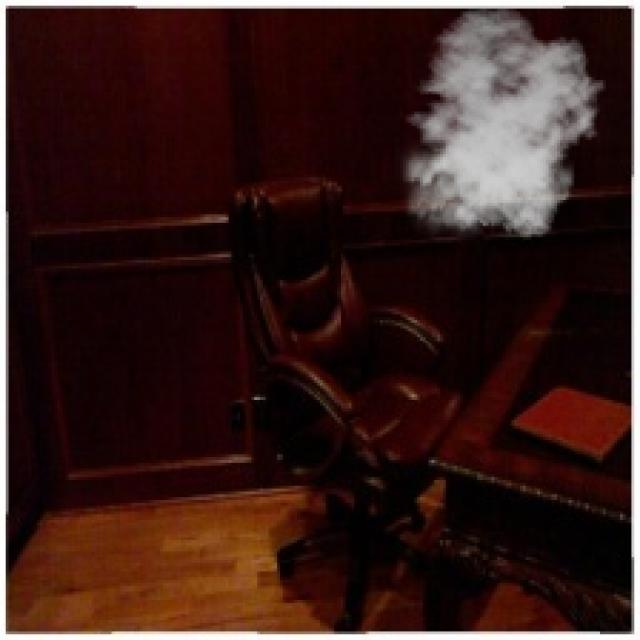smoke: (391, 6, 606, 246)
